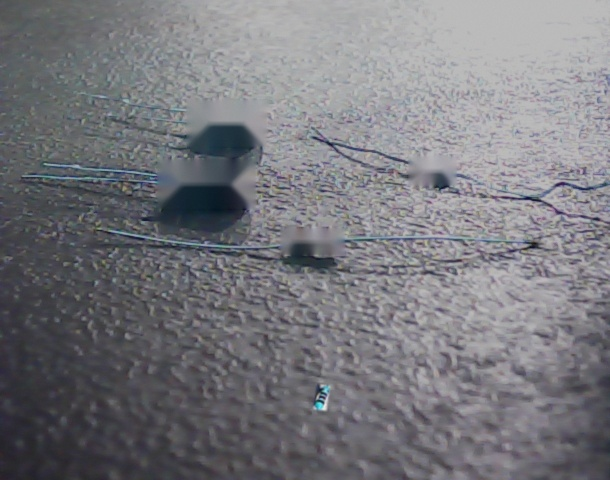resistor: (313, 384, 330, 411)
